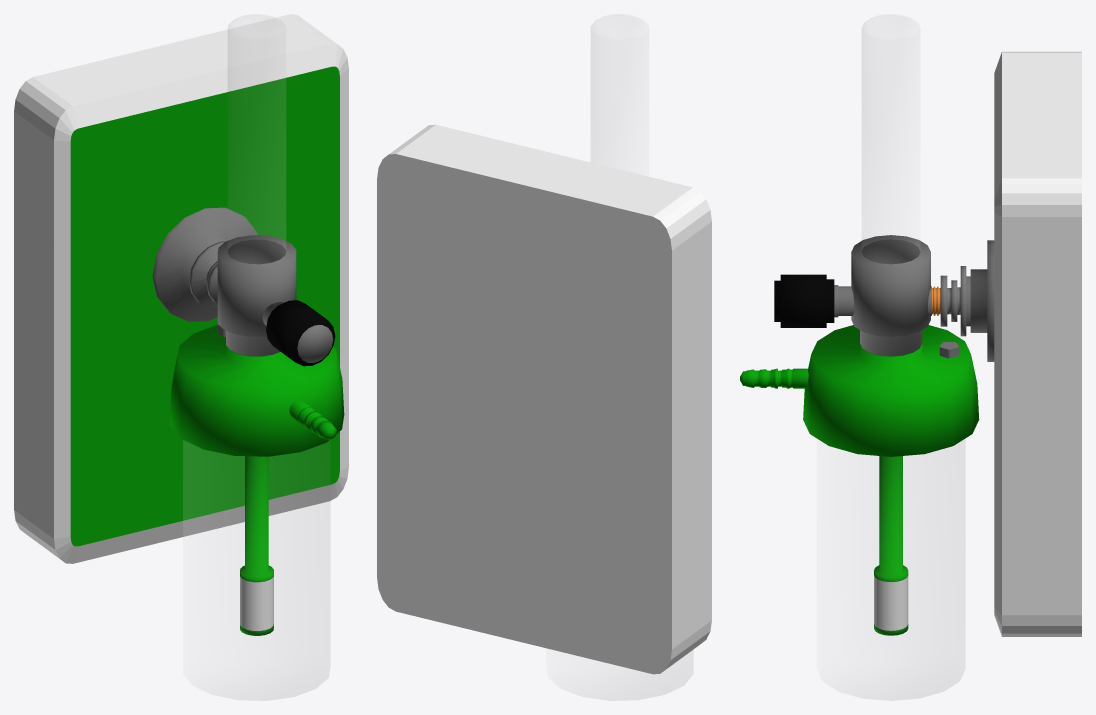
3 views of the same model, side by side, from view 1: azimuth 30°, elevation 25°; view 2: azimuth 150°, elevation 25°; view 3: azimuth 270°, elevation 25° (orthographic).
Parts seen in each view (by area): view 1: O; view 2: O; view 3: O.
Part boxes in pixels (<box>): O: <box>14,14,348,700</box>; O: <box>377,14,711,700</box>; O: <box>740,14,1081,700</box>.
Size of the model in its own units: 200 by 419 by 201.
